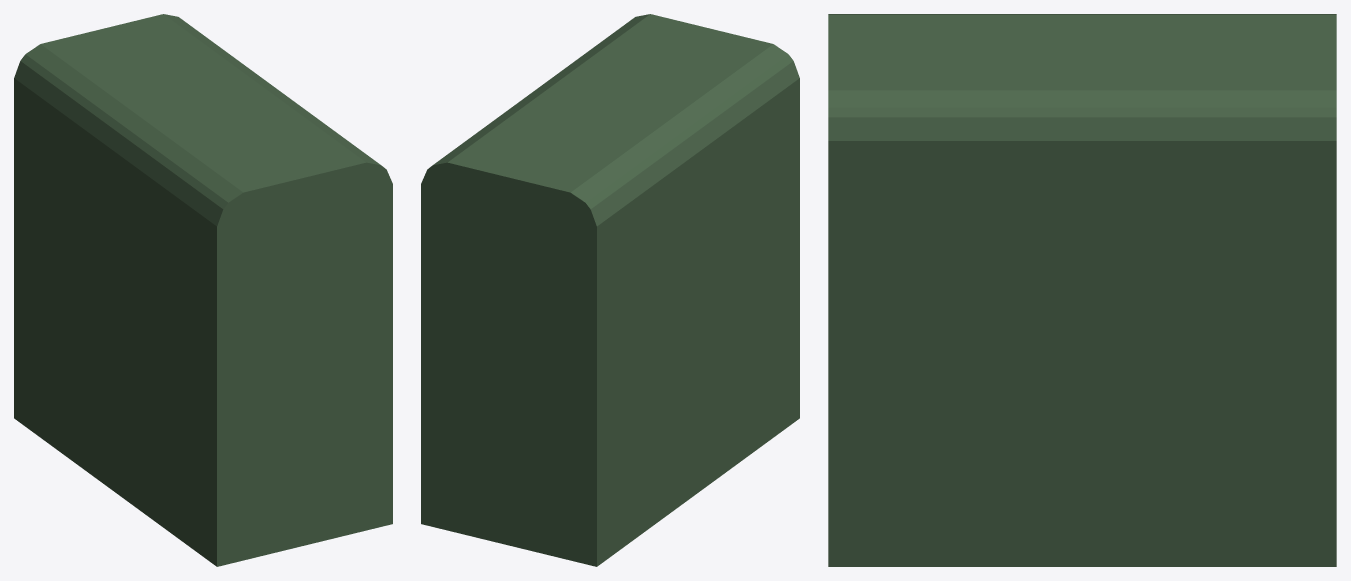
The model's file is Hedge_1x2.fbx.
The picture shows the model from 3 angles, left to right: view 1: azimuth 30°, elevation 25°; view 2: azimuth 150°, elevation 25°; view 3: azimuth 270°, elevation 25°; orthographic projection. The views are drawn at different scales.
Visible parts, largest first — view 1: Hedge_1x2; view 2: Hedge_1x2; view 3: Hedge_1x2.
Boxes of the visible parts, x1,y1,x2,y2 form: Hedge_1x2: (14,14,392,566); Hedge_1x2: (421,14,799,566); Hedge_1x2: (828,14,1336,566).
Size of the model in its own units: 100 by 200 by 200.
